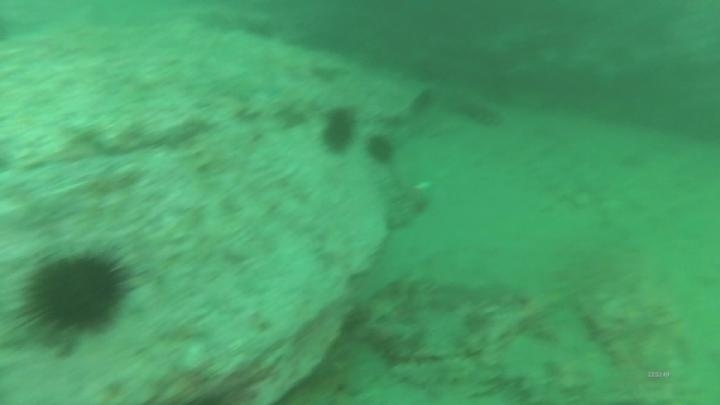echinus: (18, 245, 137, 340), (318, 105, 359, 158), (363, 131, 399, 168)
